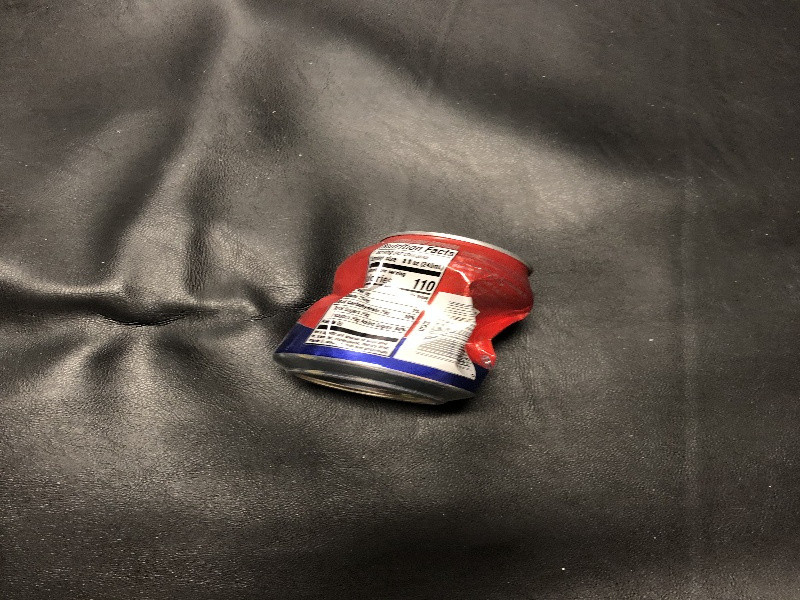metal: (269, 215, 546, 421)
